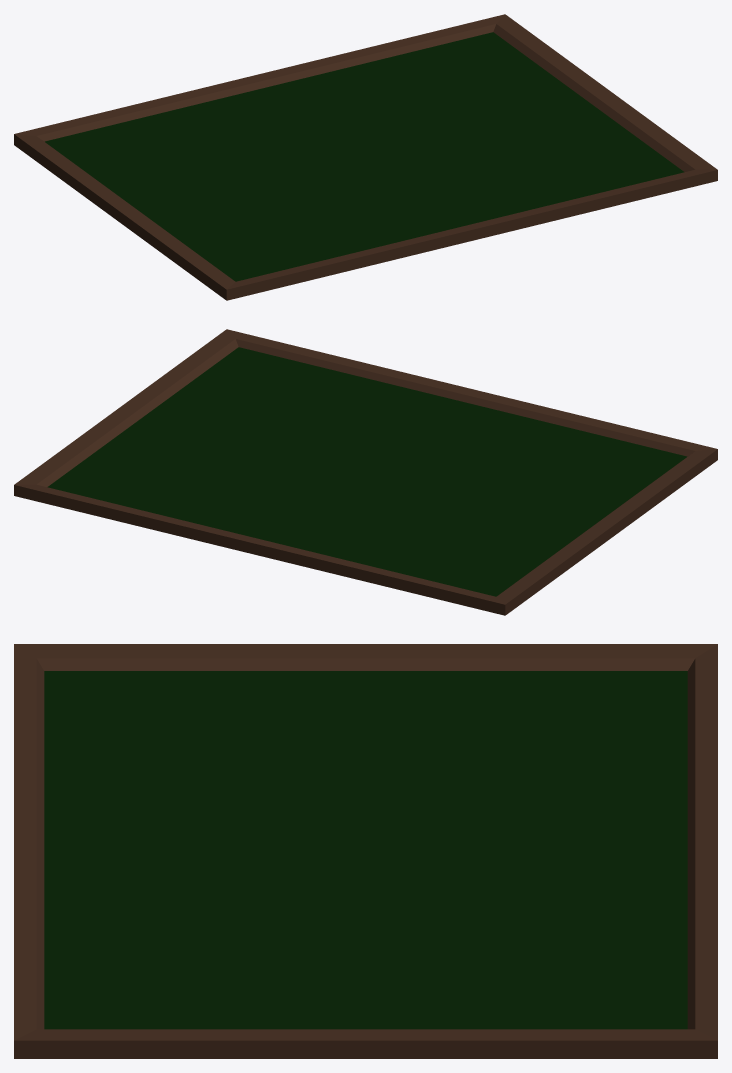
File: noticeboard.glb
3 renders of one model, top to bottom at view 1: azimuth 30°, elevation 25°; view 2: azimuth 150°, elevation 25°; view 3: azimuth 270°, elevation 25°, orthographic. The views are drawn at different scales.
Visible parts, largest first — view 1: Cube; view 2: Cube; view 3: Cube.
Boxes of the visible parts, x1,y1,x2,y2 form: Cube: (14, 14, 717, 300); Cube: (14, 329, 717, 615); Cube: (14, 644, 717, 1058).
Bounding box in the file's own units: 8 × 0.1719 × 6.
